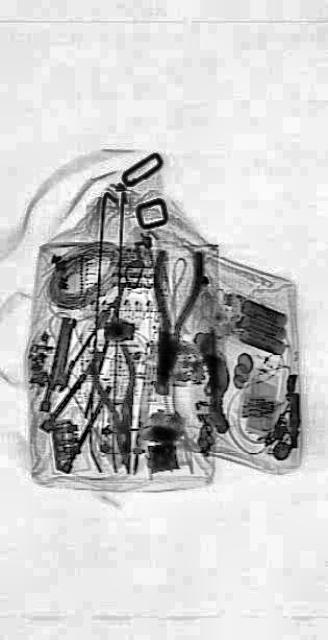Pliers: (140, 236, 204, 404), (87, 334, 148, 484)
